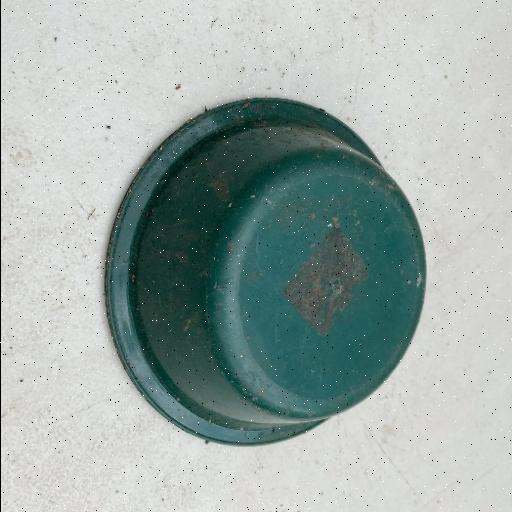Plastic: (103, 94, 429, 448)
